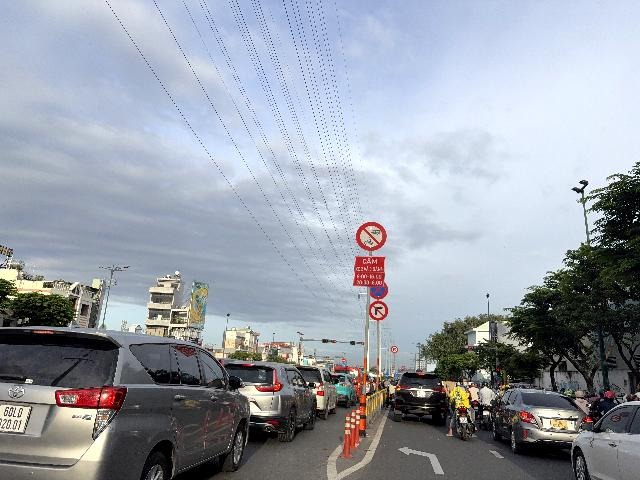cam-re-phai: (369, 300, 388, 321)
cam-xe-2-banh-3-banh: (356, 222, 387, 251)
